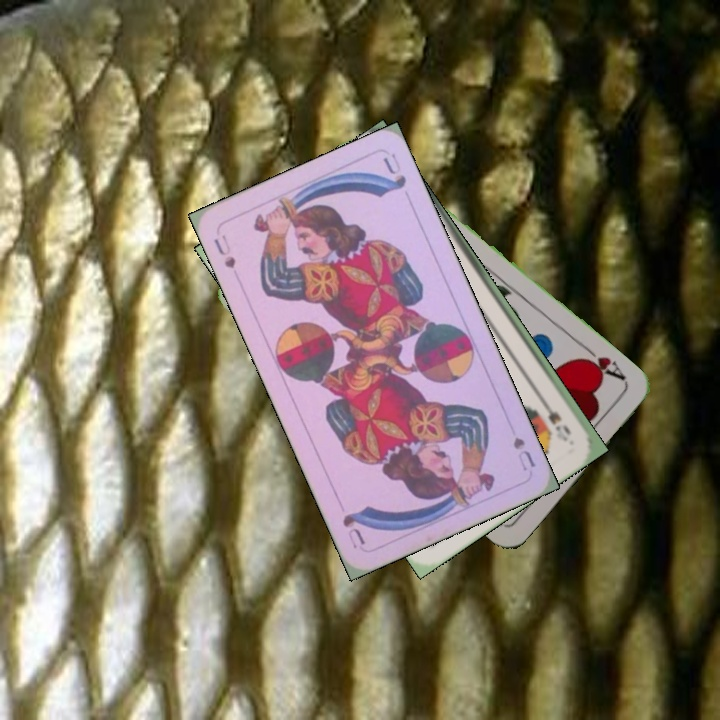HA: (576, 342, 629, 383)
SO: (535, 392, 574, 445)
SU: (209, 230, 239, 271), (509, 433, 538, 474)
